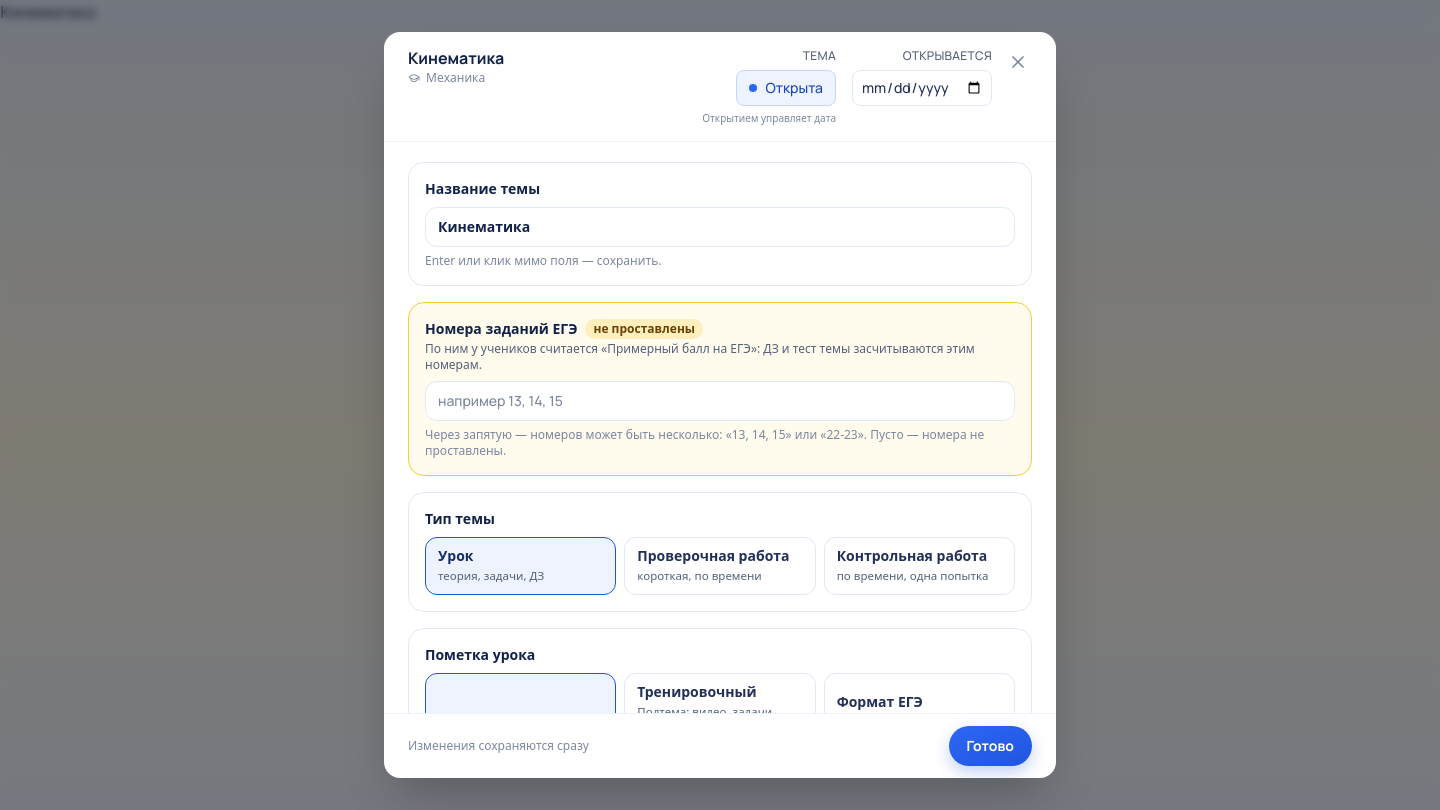
Название темы в окне темы (§258) › сбой сохранения — ошибка под полем, набранное остаётся, заголовок прежний
Replace the text in the field with test id "topic-title-input" with "Динамика": coordinates (720, 227) [425,207,1015,247]
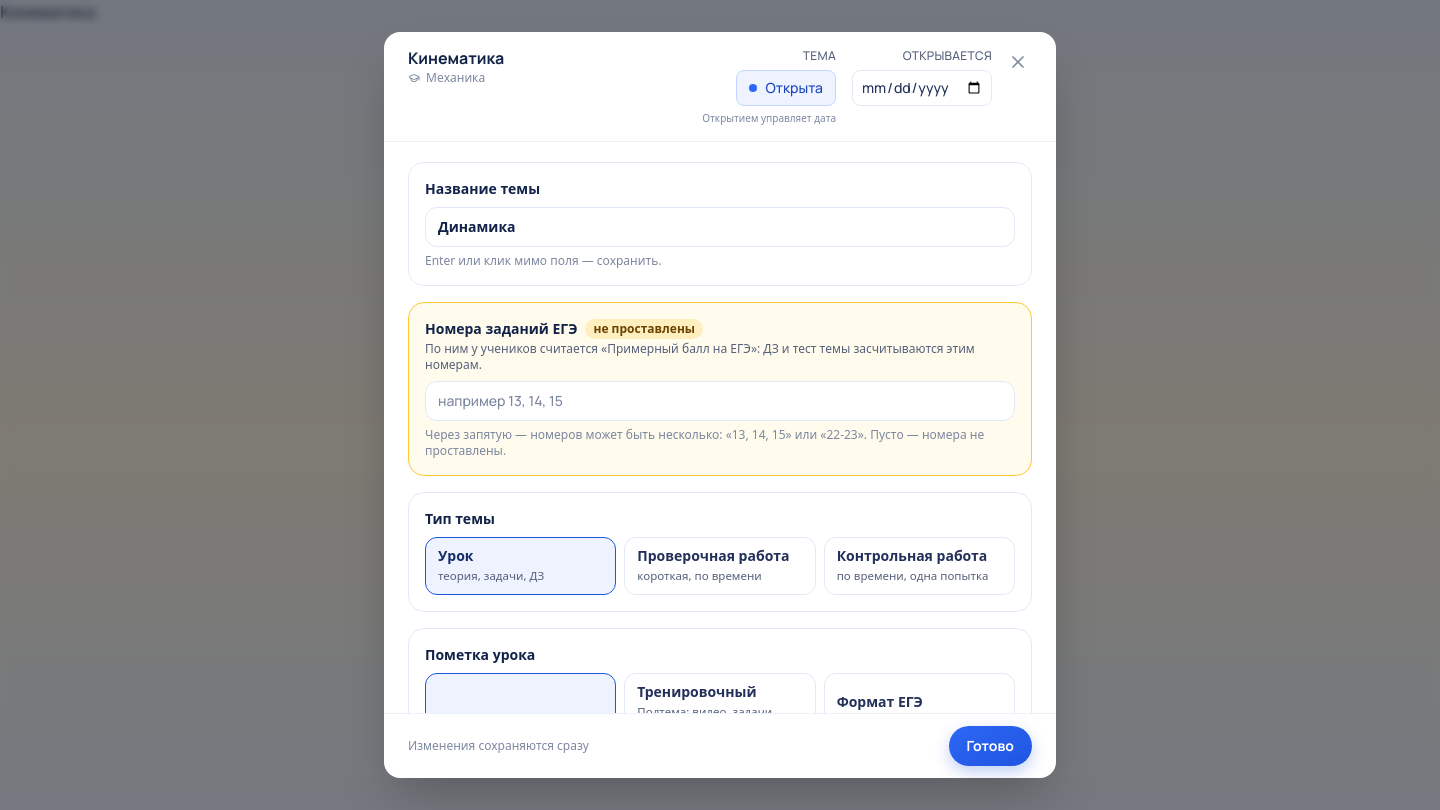
Leave the field with test id "topic-title-input", box [425,207,1015,247]
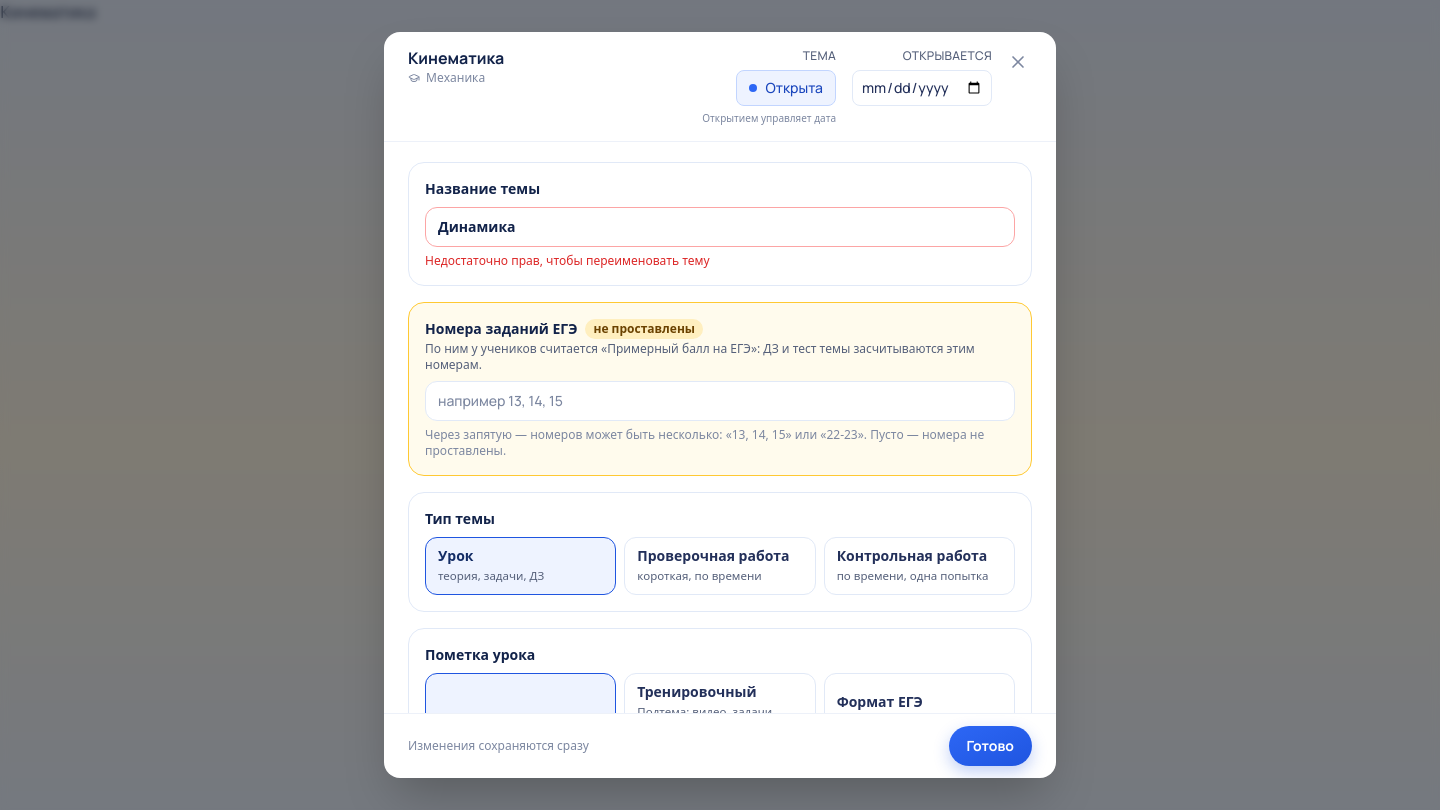
Expected: the heading reads "Кинематика", [408,47,504,69]
Now the message with test id "topic-title-error" reads "Недостаточно прав, чтобы переименовать тему", box [425,252,710,269]
